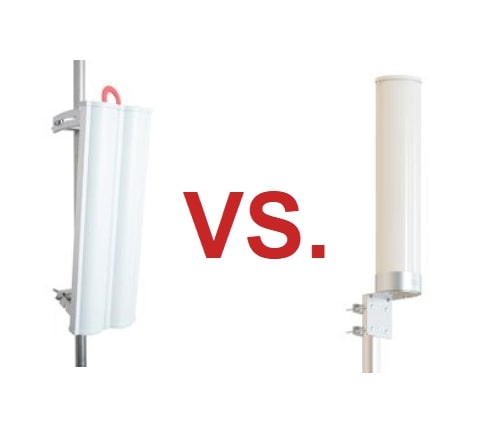sa: (50, 76, 145, 360), (356, 55, 429, 347)
